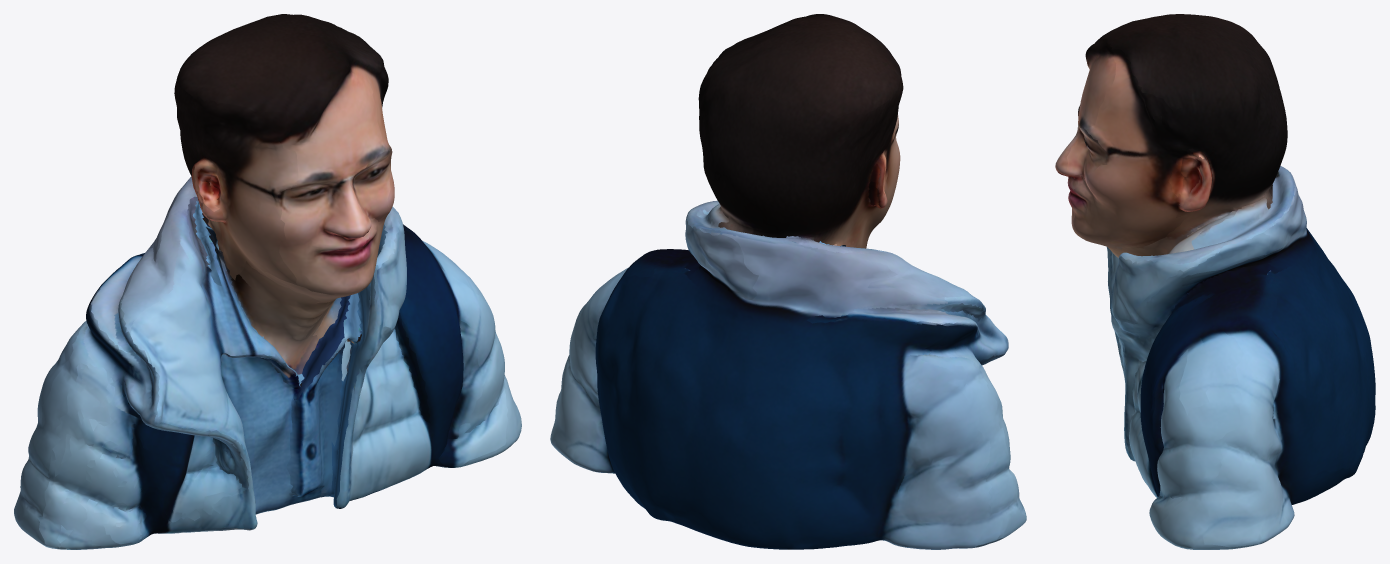
File: zhaohaisen.obj
3 renders of one model, left to right at view 1: azimuth 30°, elevation 25°; view 2: azimuth 150°, elevation 25°; view 3: azimuth 270°, elevation 25°, orthographic. The views are drawn at different scales.
Visible parts, largest first — view 1: obj1; view 2: obj1; view 3: obj1.
Boxes of the visible parts, x1,y1,x2,y2 form: obj1: [14, 14, 521, 549]; obj1: [550, 14, 1026, 549]; obj1: [1055, 14, 1375, 549].
Bounding box in the file's own units: 1.99 × 1.85 × 1.26.
